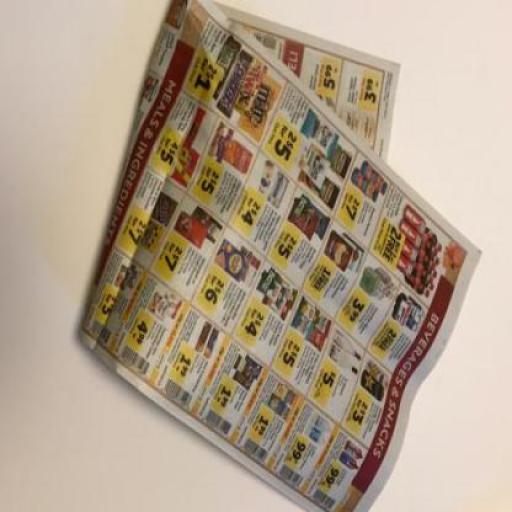paper: (80, 1, 486, 511)
